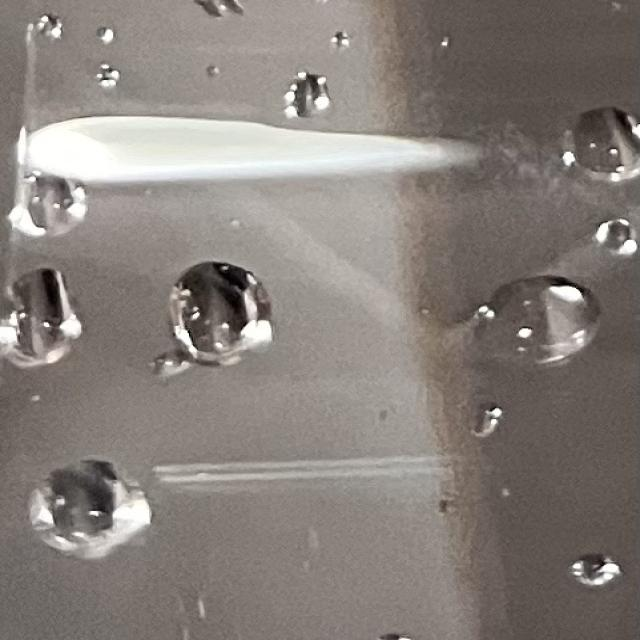raindrop: (41, 447, 166, 570), (466, 261, 603, 365), (164, 236, 276, 362), (5, 267, 96, 368), (553, 99, 640, 198), (284, 77, 364, 135), (26, 174, 98, 232), (576, 540, 630, 591), (148, 327, 191, 390), (466, 389, 519, 433), (605, 200, 640, 264), (86, 52, 129, 102), (27, 13, 71, 48), (322, 24, 362, 55), (201, 0, 248, 25), (85, 20, 120, 50)
